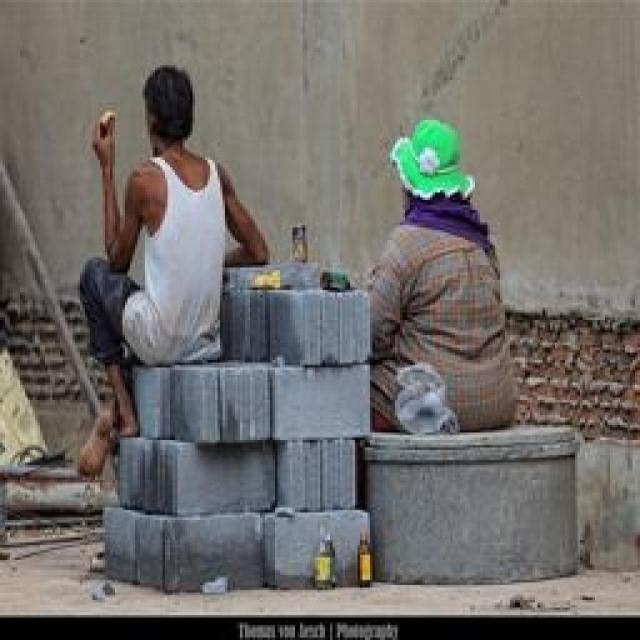Helmet: (350, 209, 545, 462), (115, 141, 257, 465), (382, 112, 500, 222), (124, 43, 220, 145)
